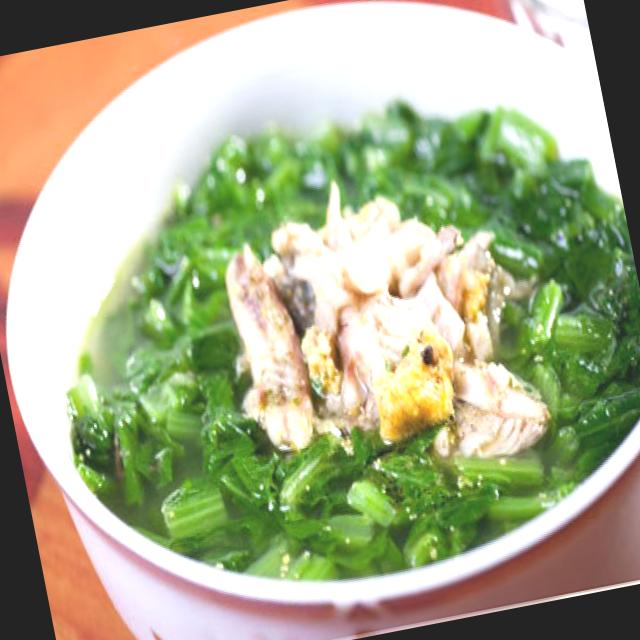canh cai: (65, 101, 640, 581)
